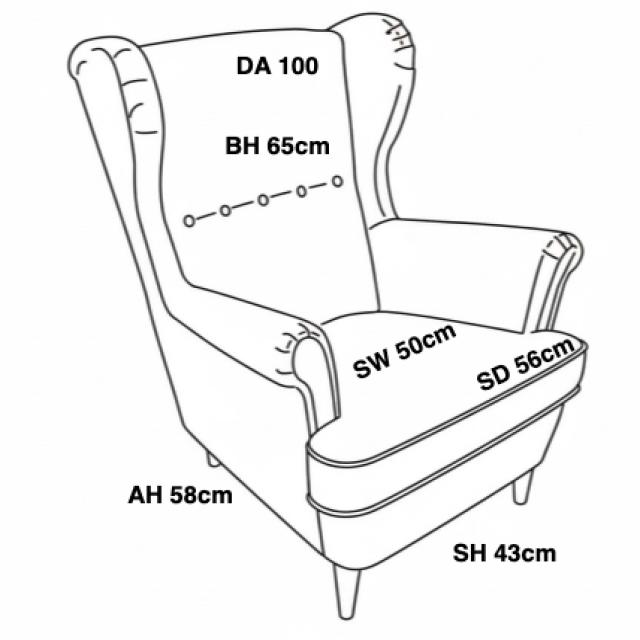AH_Label: (125, 478, 235, 510)
Armrest: (146, 279, 340, 554), (368, 217, 586, 333)
BH_Label: (223, 130, 331, 159)
Backrest: (139, 29, 377, 324)
DA_Label: (235, 53, 321, 76)
Leg_Structure: (314, 396, 570, 620), (338, 562, 363, 618), (515, 471, 534, 507)
SD_Label: (472, 330, 580, 396)
SH_Label: (451, 540, 559, 566)
SW_Label: (350, 317, 461, 385)
Seat: (306, 311, 588, 516)
Wing_Flange: (67, 35, 188, 294), (326, 11, 417, 234)
